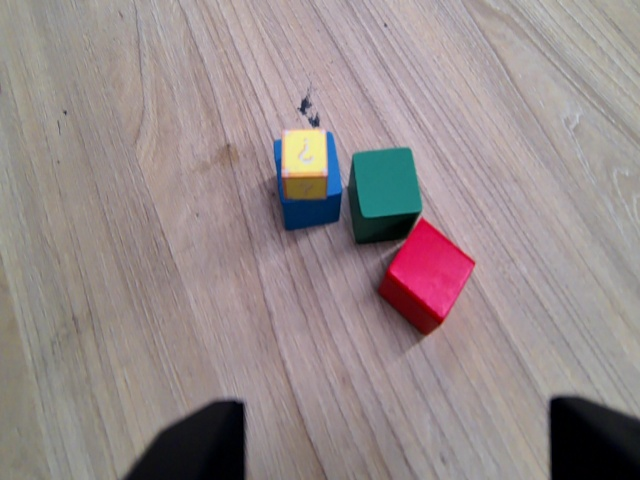lucky: (278, 120, 334, 206)
